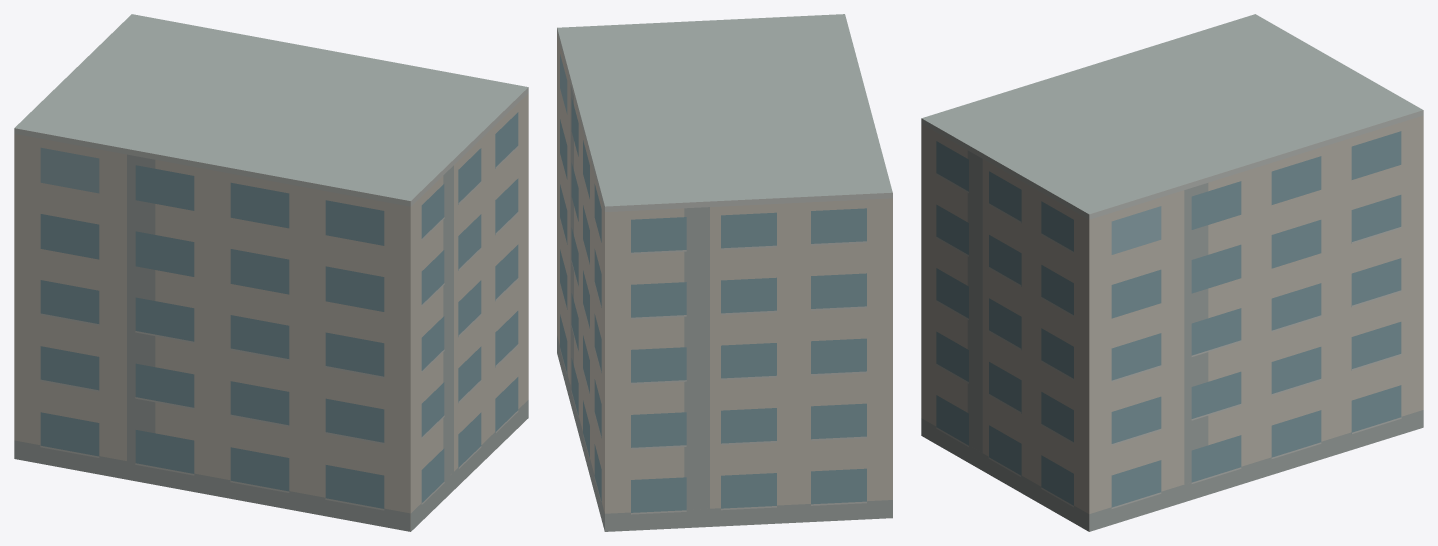
The model's file is residential-d981b09b-a635-44e5-8844-8f0c6e255e01.glb.
The picture shows the model from 3 angles, left to right: view 1: azimuth 30°, elevation 25°; view 2: azimuth 150°, elevation 25°; view 3: azimuth 270°, elevation 25°; orthographic projection. The views are drawn at different scales.
Visible parts, largest first — view 1: residential-d981b09b-a635-44e5-8844-8f0c6e255e01.tmp; view 2: residential-d981b09b-a635-44e5-8844-8f0c6e255e01.tmp; view 3: residential-d981b09b-a635-44e5-8844-8f0c6e255e01.tmp.
Boxes of the visible parts, bbox=[...] form: residential-d981b09b-a635-44e5-8844-8f0c6e255e01.tmp: bbox=[14, 14, 528, 531]; residential-d981b09b-a635-44e5-8844-8f0c6e255e01.tmp: bbox=[557, 14, 892, 531]; residential-d981b09b-a635-44e5-8844-8f0c6e255e01.tmp: bbox=[921, 14, 1423, 531].
Bounding box in the file's own units: 19.23 × 14.2 × 20.36.
